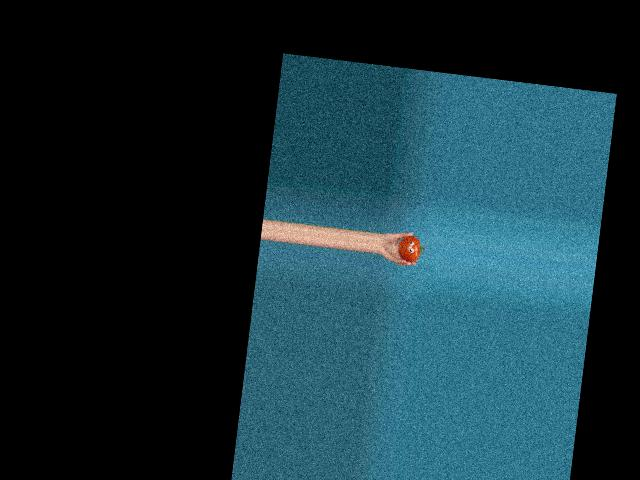tomato: (396, 234, 422, 263)
